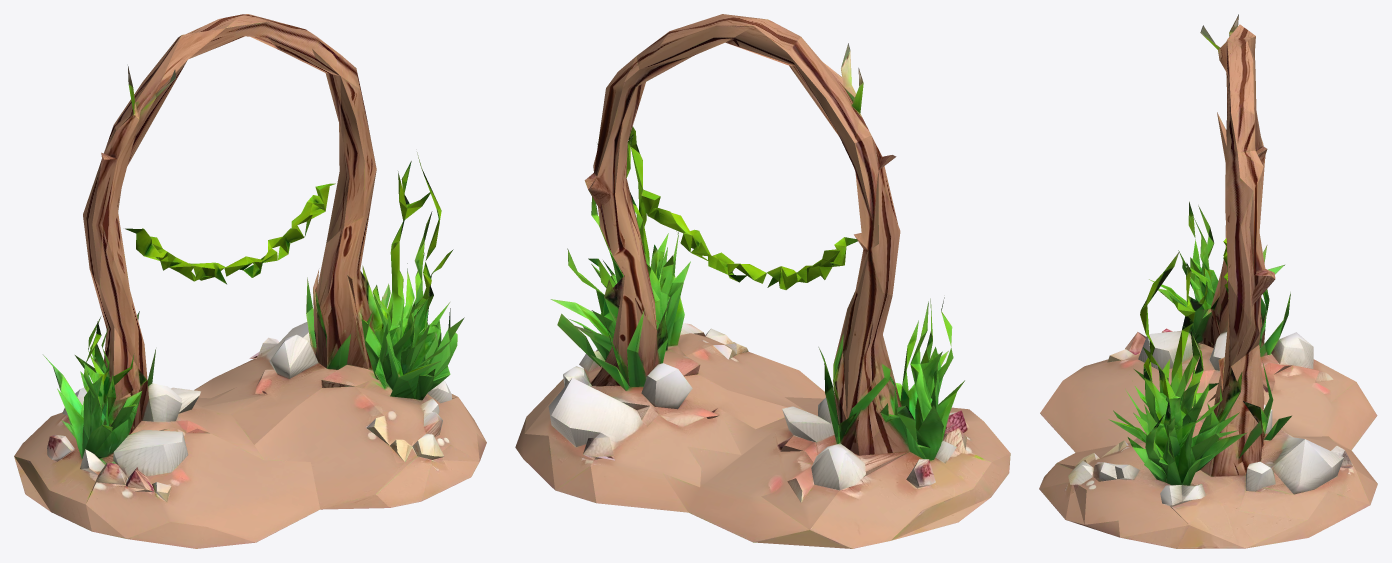
The model's file is arch-driftwood.glb.
3 views of the same model, side by side, from view 1: azimuth 30°, elevation 25°; view 2: azimuth 150°, elevation 25°; view 3: azimuth 270°, elevation 25° (orthographic). The views are drawn at different scales.
Parts seen in each view (by area): view 1: Mesh_0; view 2: Mesh_0; view 3: Mesh_0.
Part boxes in pixels (box(x1,y1,x2,y2)): Mesh_0: box(14, 14, 486, 548); Mesh_0: box(515, 14, 1010, 548); Mesh_0: box(1039, 14, 1377, 548).
Bounding box in the file's own units: 1.89 × 1.86 × 1.4.
1 material, 1 textured.
